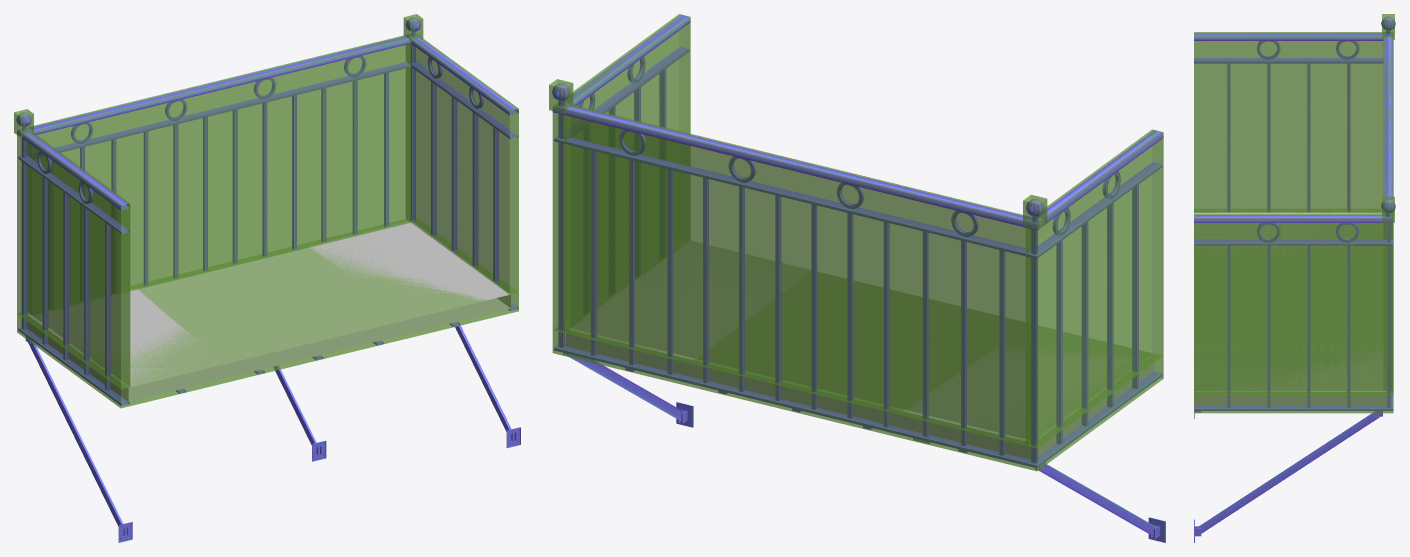
The model's file is F_Balcony_L_01.fbx.
3 renders of one model, left to right at view 1: azimuth 30°, elevation 25°; view 2: azimuth 150°, elevation 25°; view 3: azimuth 270°, elevation 25°, orthographic. The views are drawn at different scales.
Parts seen in each view (by area): view 1: F_Balcony_L_01_LOD0, F_Balcony_L_01_col_02, F_Balcony_L_01_col_04, F_Balcony_L_01_col_03, F_Balcony_L_01_col_01; view 2: F_Balcony_L_01_col_02, F_Balcony_L_01_LOD0, F_Balcony_L_01_col_03, F_Balcony_L_01_col_01, F_Balcony_L_01_col_04, F_Balcony_L_01_col_05, F_Balcony_L_01_col_06; view 3: F_Balcony_L_01_col_01, F_Balcony_L_01_col_03, F_Balcony_L_01_LOD0, F_Balcony_L_01_col_04, F_Balcony_L_01_col_02, F_Balcony_L_01_col_06, F_Balcony_L_01_col_05.
Part boxes in pixels (x1,y1,x2,y2): F_Balcony_L_01_LOD0: [16, 17, 520, 542]; F_Balcony_L_01_col_02: [27, 35, 411, 314]; F_Balcony_L_01_col_04: [17, 218, 518, 408]; F_Balcony_L_01_col_03: [17, 128, 130, 389]; F_Balcony_L_01_col_01: [406, 34, 518, 294]; F_Balcony_L_01_col_02: [564, 105, 1031, 445]; F_Balcony_L_01_LOD0: [552, 14, 1165, 542]; F_Balcony_L_01_col_03: [1025, 129, 1163, 448]; F_Balcony_L_01_col_01: [552, 14, 690, 332]; F_Balcony_L_01_col_04: [552, 327, 1163, 471]; F_Balcony_L_01_col_05: [1023, 194, 1047, 229]; F_Balcony_L_01_col_06: [549, 79, 573, 113]; F_Balcony_L_01_col_01: [1194, 214, 1393, 395]; F_Balcony_L_01_col_03: [1194, 32, 1393, 212]; F_Balcony_L_01_LOD0: [1194, 16, 1395, 542]; F_Balcony_L_01_col_04: [1194, 209, 1393, 413]; F_Balcony_L_01_col_02: [1383, 36, 1393, 390]; F_Balcony_L_01_col_06: [1382, 196, 1394, 222]; F_Balcony_L_01_col_05: [1382, 14, 1394, 39].
Size of what is drawn, in the model's own units: 224 by 188 by 101.
